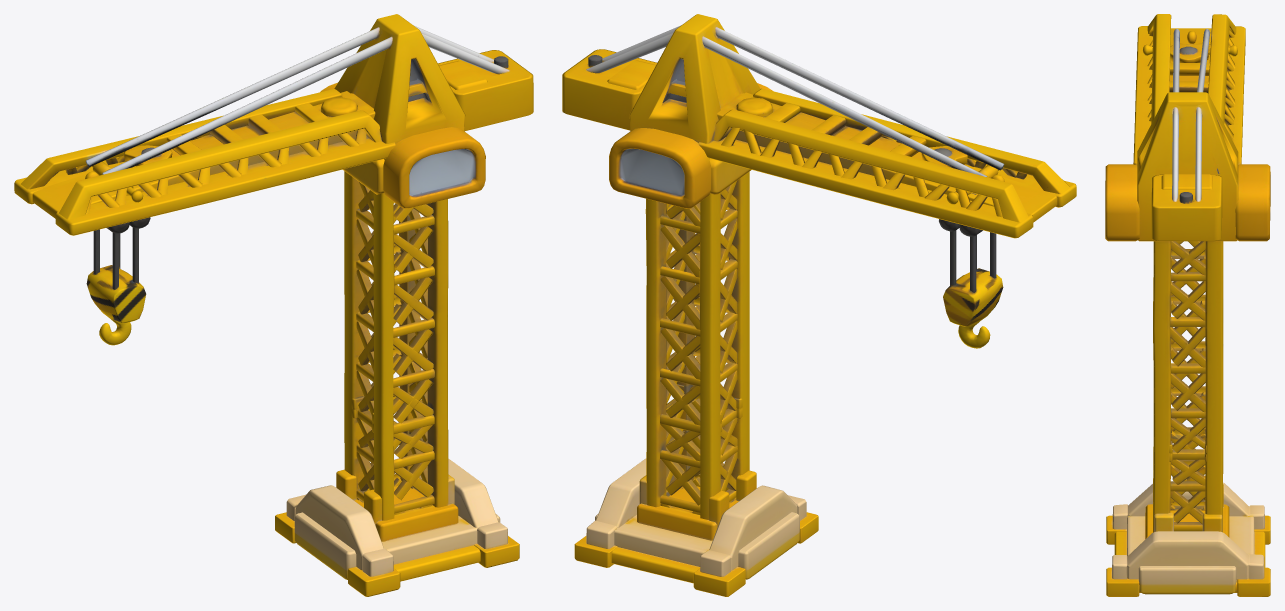
Rendered from construction_crane_3d_model.fbx.
The picture shows the model from 3 angles, left to right: view 1: azimuth 30°, elevation 25°; view 2: azimuth 150°, elevation 25°; view 3: azimuth 270°, elevation 25°; orthographic projection. The views are drawn at different scales.
Parts seen in each view (by area): view 1: tripo_8a529b65_53c6_438a_96f0_931719e0e5f4; view 2: tripo_8a529b65_53c6_438a_96f0_931719e0e5f4; view 3: tripo_8a529b65_53c6_438a_96f0_931719e0e5f4.
Boxes of the visible parts, x1,y1,x2,y2 form: tripo_8a529b65_53c6_438a_96f0_931719e0e5f4: (14, 14, 533, 596); tripo_8a529b65_53c6_438a_96f0_931719e0e5f4: (562, 14, 1076, 596); tripo_8a529b65_53c6_438a_96f0_931719e0e5f4: (1105, 14, 1270, 596).
Size of the model in its own units: 0.9487 by 0.9995 by 0.3208.
1 material, 1 textured.
